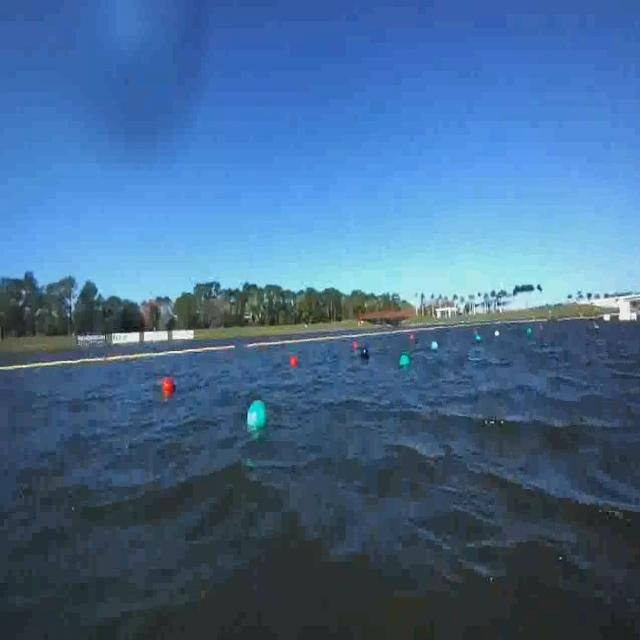black-buoy: (360, 349, 369, 361)
green-buoy: (250, 401, 269, 431), (402, 353, 412, 368), (526, 326, 534, 338)
red-buoy: (163, 377, 176, 397), (290, 356, 298, 369), (353, 343, 359, 351)
